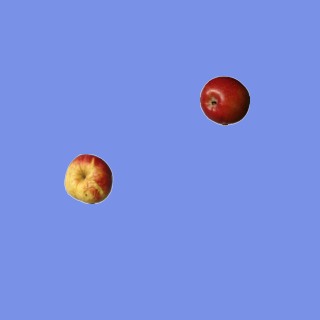Apple Braeburn: (199, 75, 249, 125)
Apple Red Yellow 1: (63, 153, 113, 203)
